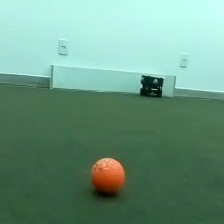ball: (88, 154, 127, 198)
goal: (48, 62, 177, 98)
robot: (138, 72, 165, 98)
